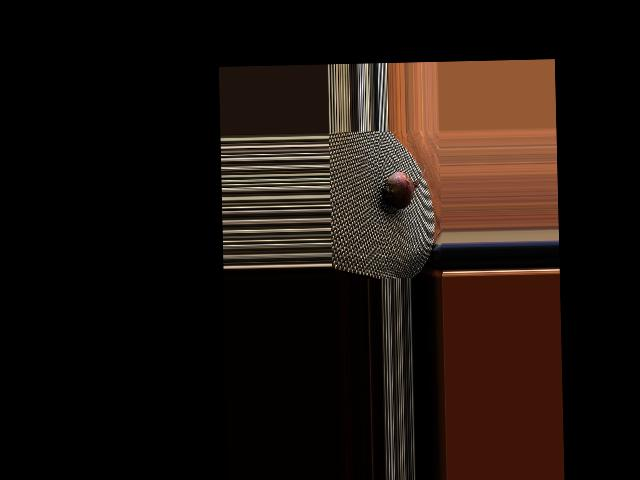beet: (379, 165, 425, 214)
